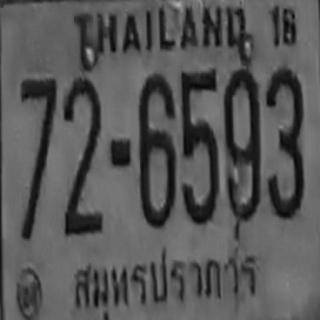N02: (62, 77, 101, 210), (63, 109, 102, 231)
N03: (265, 66, 303, 218)
N06: (137, 73, 175, 227)
N07: (20, 77, 56, 175), (20, 77, 56, 164)
N09: (223, 68, 260, 222)
P57: (62, 239, 267, 320)
